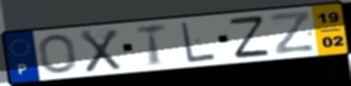L: (179, 20, 218, 64)
O: (37, 33, 80, 75)
T: (135, 22, 169, 68)
X: (78, 28, 124, 74)
Z: (268, 10, 317, 57), (226, 14, 272, 61)
